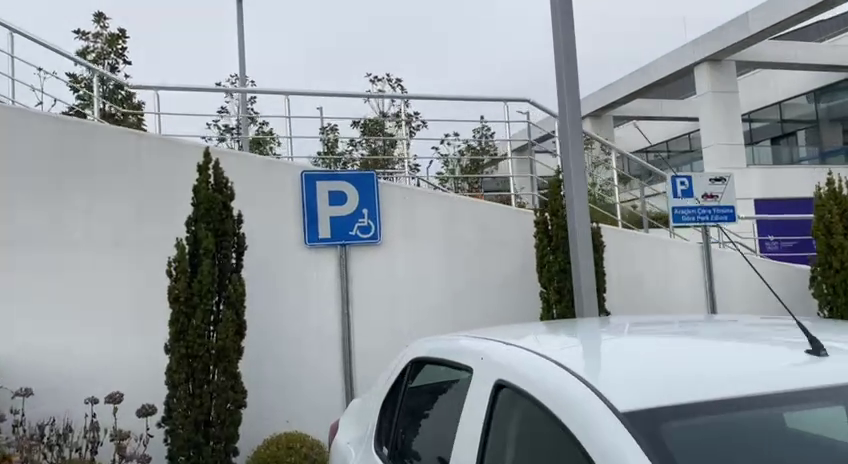parking: (300, 168, 382, 246), (670, 175, 694, 200)
